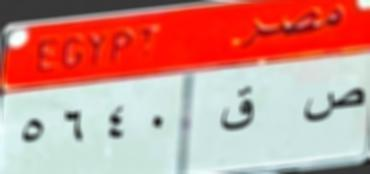0: (144, 110, 172, 141)
4: (105, 96, 132, 148)
6: (60, 102, 90, 144), (19, 112, 48, 151)
qaaf: (215, 80, 264, 136)
saad: (300, 78, 365, 128)
